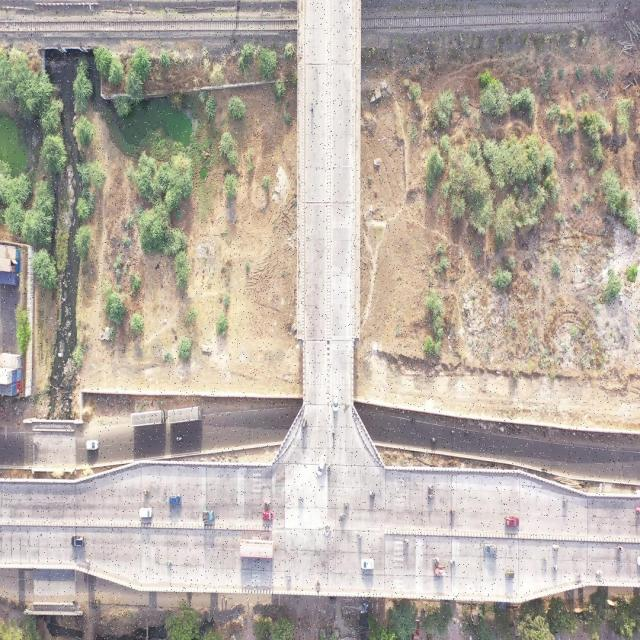3W: (434, 564, 445, 577), (90, 600, 101, 610), (302, 412, 308, 429), (506, 570, 516, 580), (328, 597, 336, 604)
Bus: (239, 536, 276, 562), (130, 409, 166, 427), (168, 405, 203, 423)
Cars: (71, 532, 86, 549), (317, 453, 327, 478), (139, 506, 154, 520), (167, 492, 182, 506), (361, 556, 375, 571), (505, 515, 520, 528), (86, 439, 100, 452), (483, 544, 497, 557), (332, 388, 339, 413), (262, 510, 274, 521)
LCV: (202, 510, 215, 522)
M2W: (552, 542, 561, 553), (263, 497, 272, 507), (449, 557, 457, 568), (174, 435, 183, 444), (574, 570, 583, 578), (432, 555, 440, 564), (402, 538, 411, 546), (167, 558, 174, 568), (84, 557, 92, 565), (368, 489, 377, 496), (356, 531, 363, 540), (614, 545, 623, 552), (595, 569, 604, 576), (550, 564, 559, 571), (540, 557, 549, 564), (142, 489, 151, 496), (339, 511, 346, 519), (298, 496, 305, 503), (286, 573, 293, 580), (409, 417, 416, 424), (464, 429, 471, 436), (562, 497, 569, 504), (430, 437, 438, 443), (344, 500, 350, 507), (315, 580, 321, 587), (450, 428, 456, 435), (542, 467, 549, 473), (449, 508, 456, 514), (72, 599, 79, 605), (33, 441, 40, 447), (311, 100, 314, 113), (428, 484, 434, 490), (428, 493, 435, 498), (332, 429, 335, 440), (327, 462, 330, 473)
